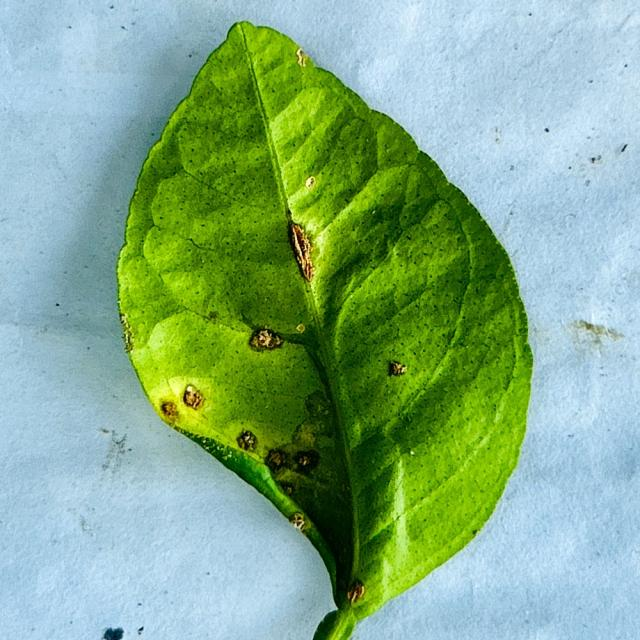Anthracnose: (284, 216, 316, 288), (249, 326, 284, 351), (117, 300, 134, 349), (183, 385, 205, 410), (347, 579, 365, 604), (387, 360, 407, 377), (296, 49, 308, 67)
Lemon: (115, 20, 535, 639)
